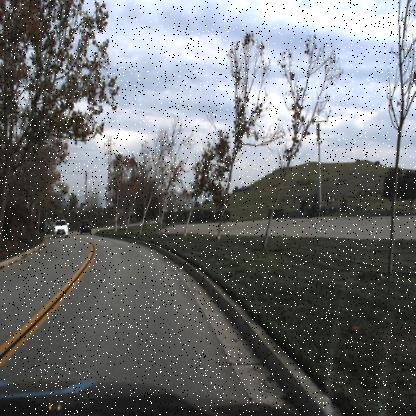car: (52, 217, 70, 240), (78, 218, 96, 237)
